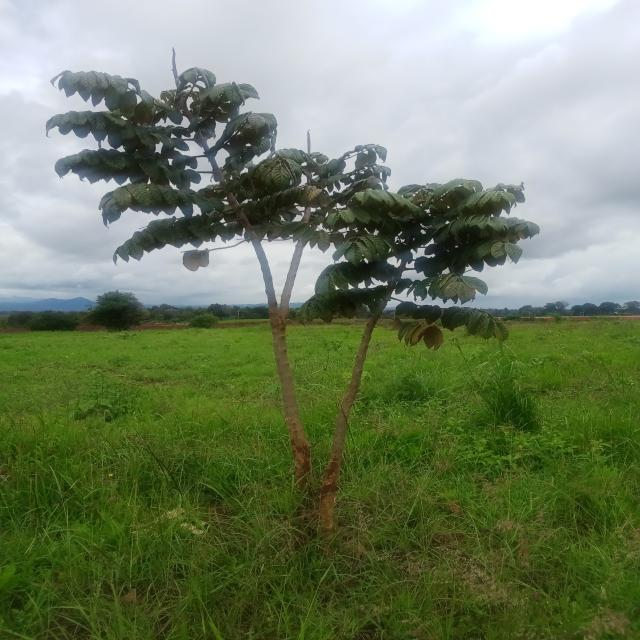Polyscias Kikuyensis: (41, 50, 544, 539)
